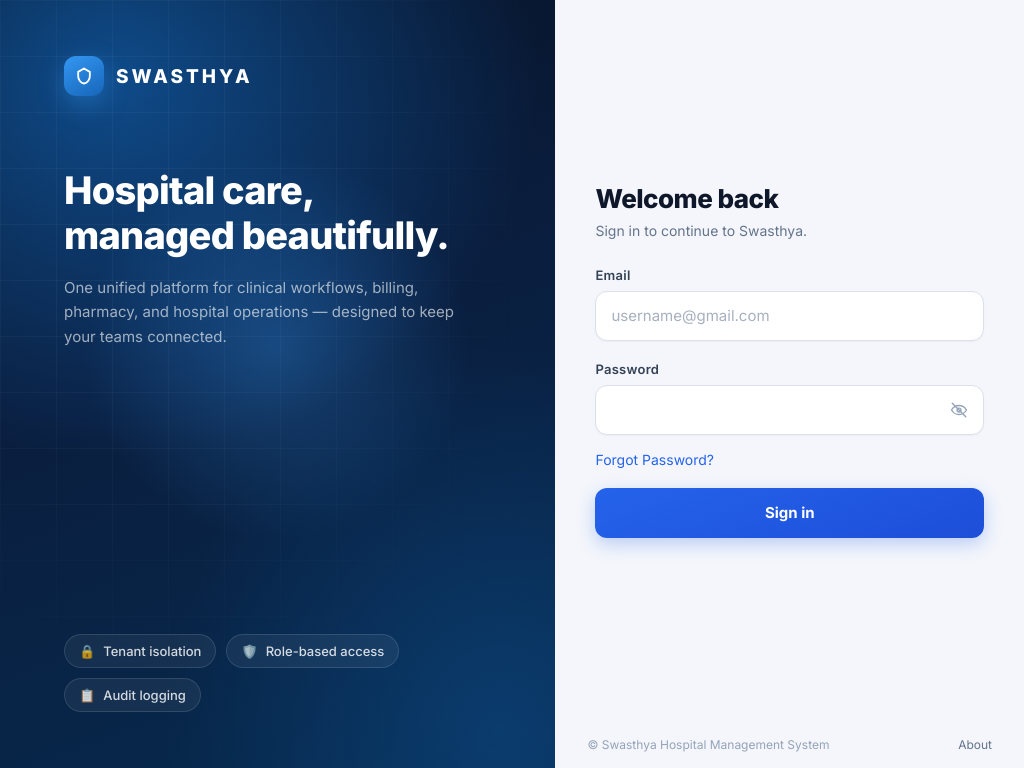
it: LoginPage › shows friendly error on invalid credentials
The image size is (1024, 768).
In the field labelled "Email": point(790, 316) [595, 290, 984, 340], type "admin@hospital.com"
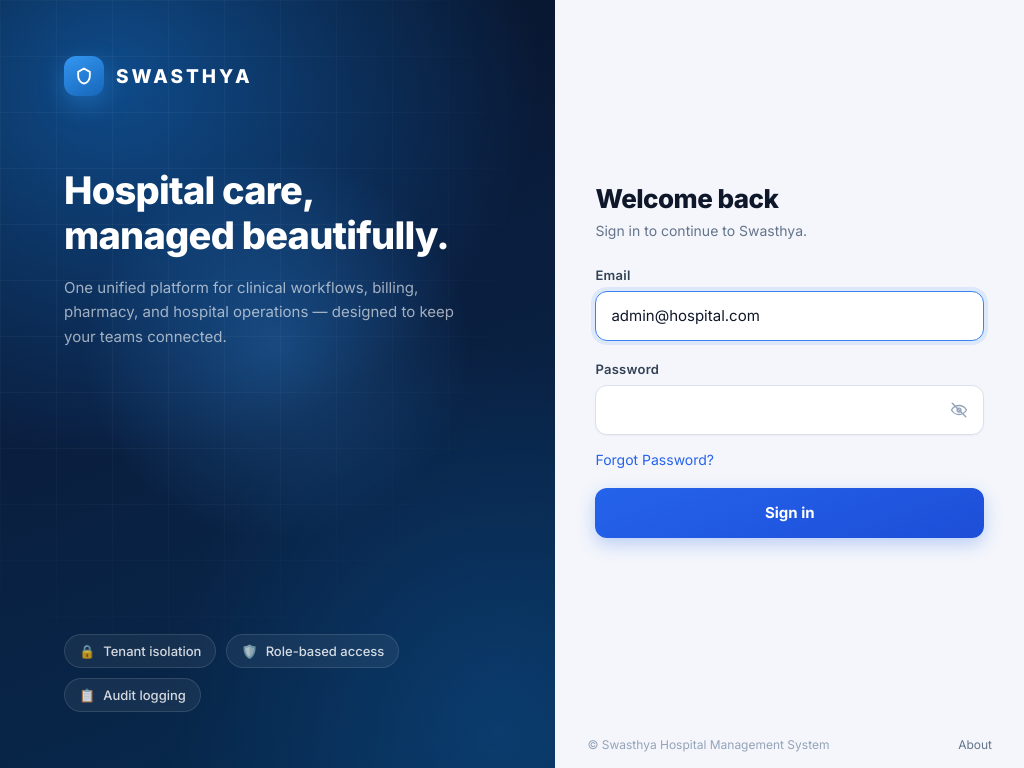
In the password field labelled "Password": point(790, 410) [595, 384, 984, 434], type "WrongPass1"
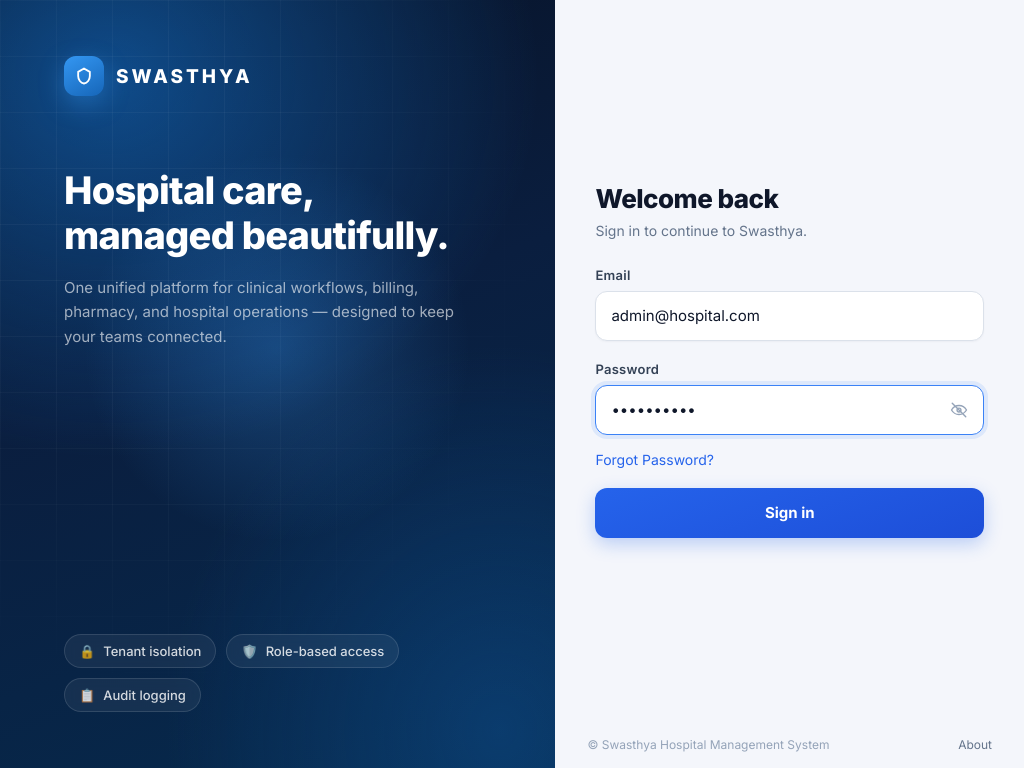
Click the button "Sign in": point(790, 512) [595, 488, 984, 538]
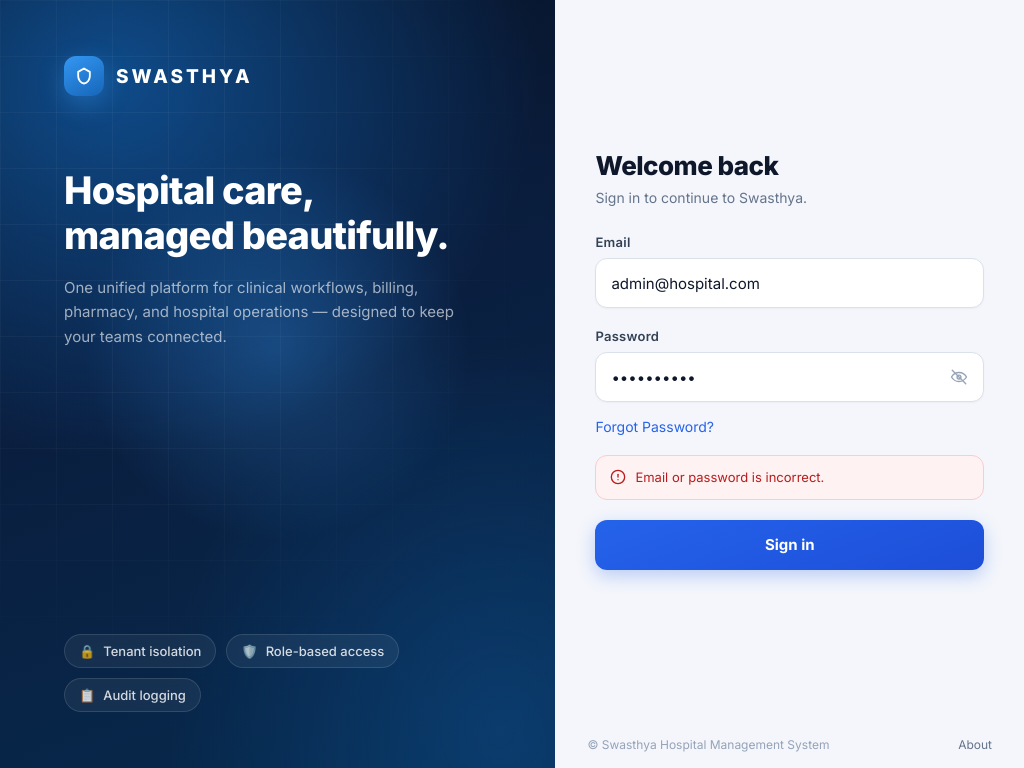
Expected: the text "Email or password is incorrect." is shown, [595, 455, 984, 500]
